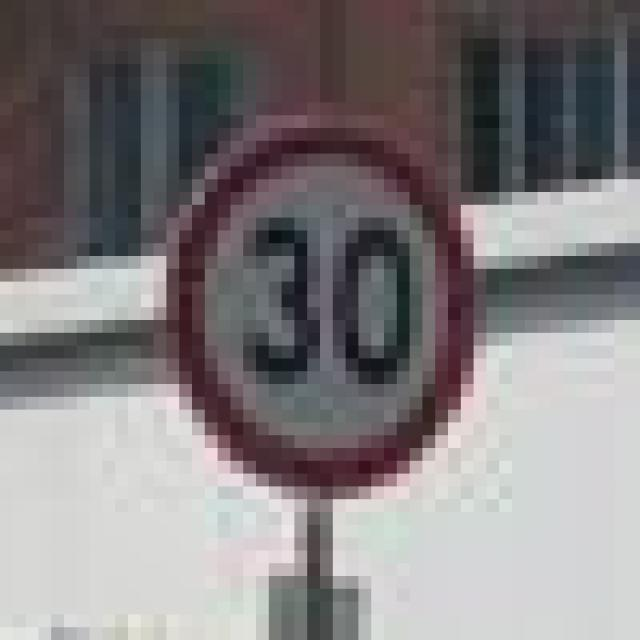SPEED_LIMIT_30: (140, 102, 473, 500)
